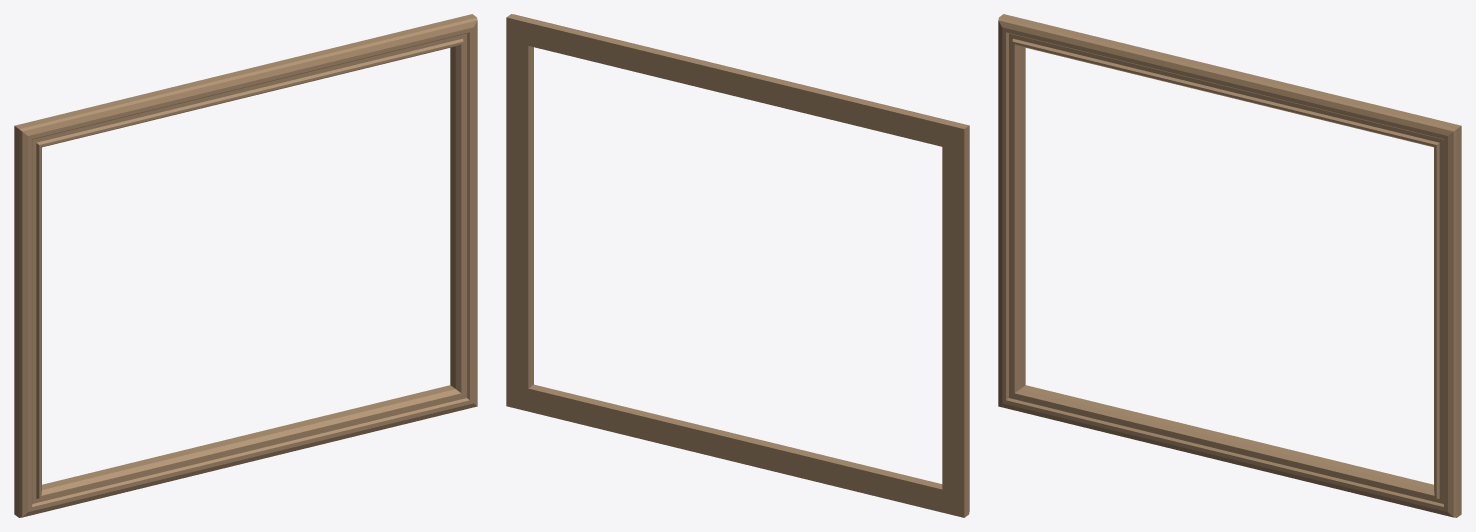
File: lift_mirror.glb
3 views of the same model, side by side, from view 1: azimuth 30°, elevation 25°; view 2: azimuth 150°, elevation 25°; view 3: azimuth 330°, elevation 25° (orthographic).
Visible parts, largest first — view 1: MirrorFrame; view 2: MirrorFrame; view 3: MirrorFrame.
Boxes of the visible parts, <box> form: MirrorFrame: <box>14,14,477,517</box>; MirrorFrame: <box>506,14,969,517</box>; MirrorFrame: <box>998,14,1461,517</box>.
Size of the model in its own units: 1.06 by 0.86 by 0.032.
